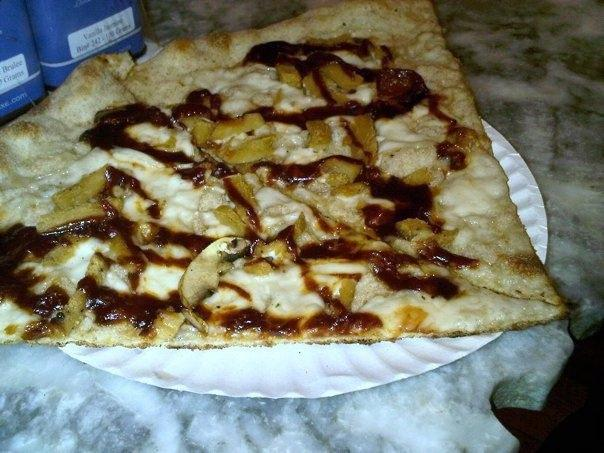mushroom: (178, 236, 252, 307), (42, 288, 96, 340), (51, 163, 109, 211), (339, 115, 378, 166), (306, 158, 362, 192), (211, 113, 264, 140), (321, 64, 364, 93), (331, 278, 357, 316), (275, 62, 302, 82)
